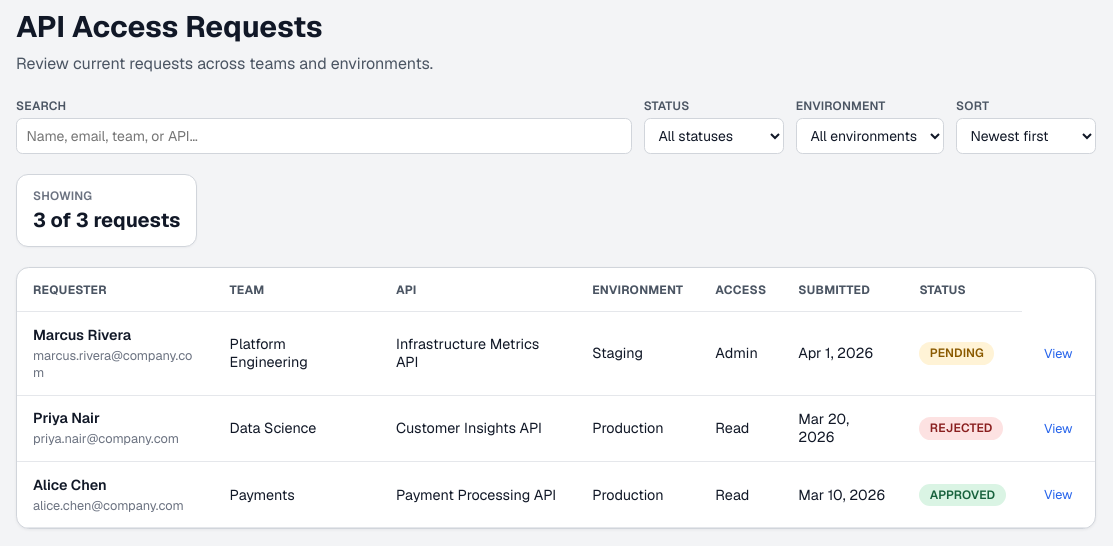
Test: RequestsDashboard search and filtering › filters the list by status
The width and height of the screenshot is (1113, 546).
Select "Pending" in the dropdown labelled "Status": [714, 136] box [644,118,784,154]
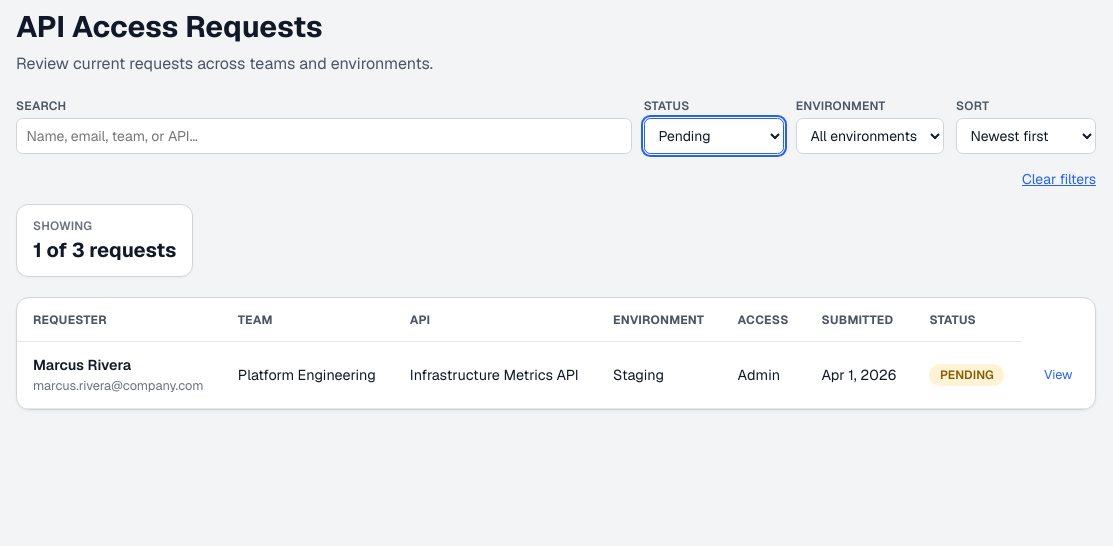
Expected: the text "Marcus Rivera" is shown, [33,356,131,374]
Now the text "Alice Chen" is gone
Now the text "Priya Nair" is gone
